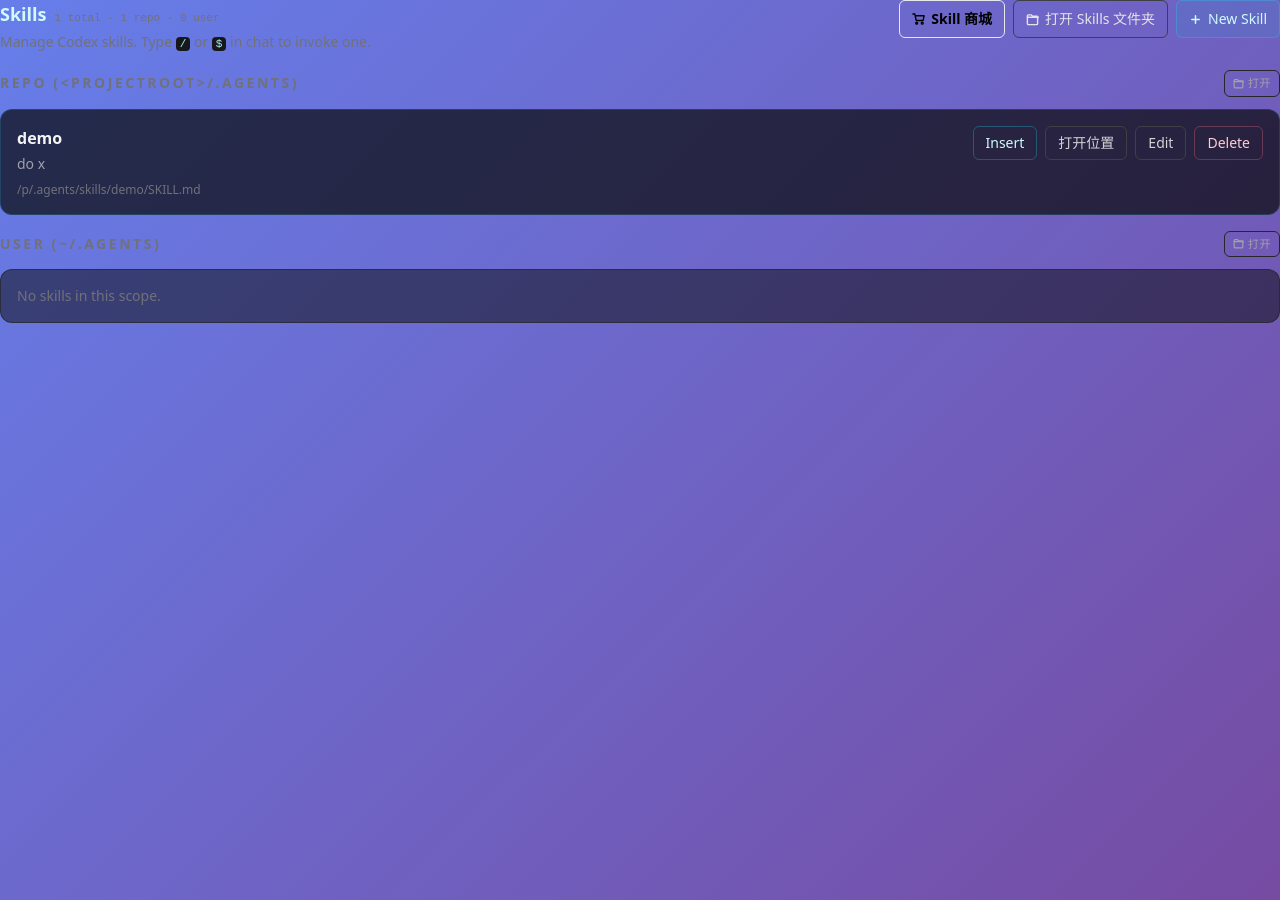
SkillsSection › opens the SkillEditor for editing an existing skill
Click the button with aria-label "Edit demo" at (1161, 142), box [1135,126,1186,160]
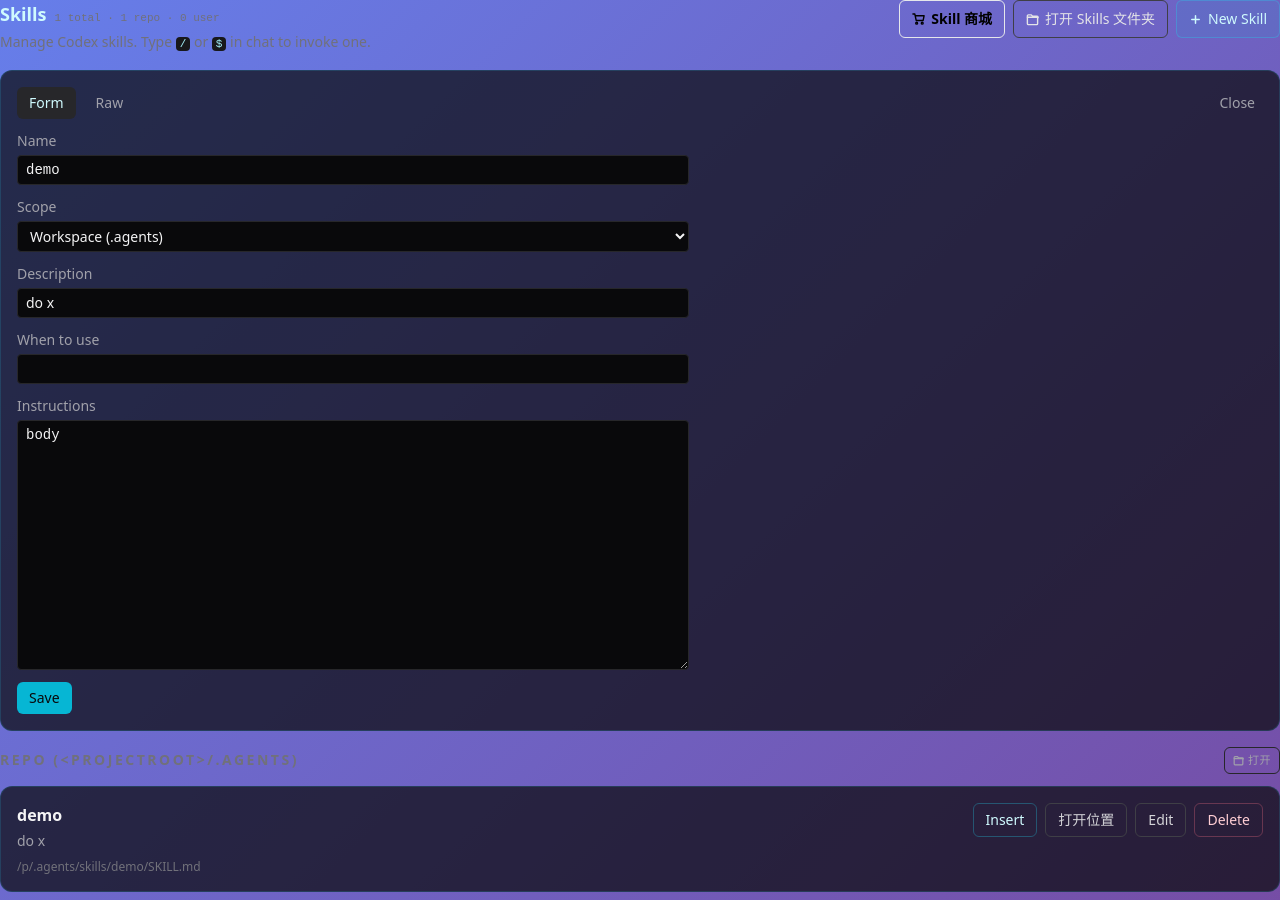
expect the field labelled "Name" is shown: met, box [17,155,689,185]
